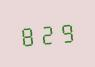eight: (18, 22, 36, 47)
nine: (57, 19, 75, 44)
two: (38, 20, 56, 46)
